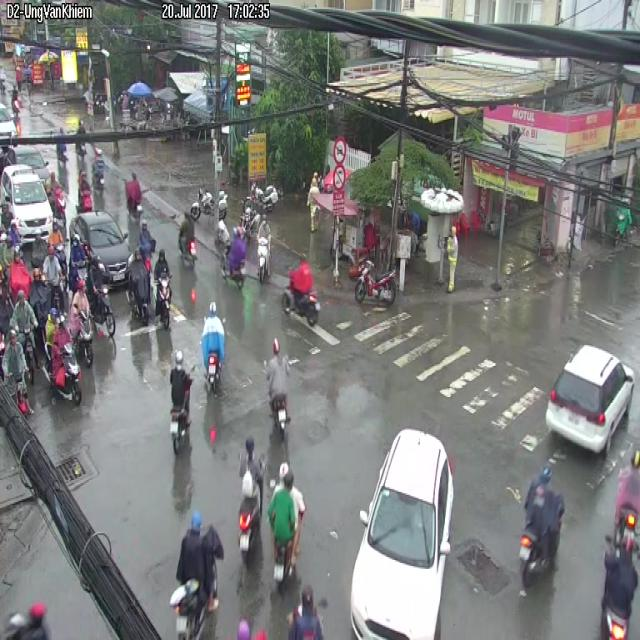car: (170, 511, 223, 639), (521, 467, 564, 585), (600, 520, 638, 639), (268, 462, 303, 585), (238, 439, 263, 560), (50, 313, 81, 403), (10, 290, 38, 378), (2, 330, 31, 412), (282, 261, 318, 324), (86, 258, 115, 336), (170, 350, 192, 452), (613, 450, 639, 536), (202, 302, 224, 391), (267, 338, 288, 431), (354, 259, 397, 304), (70, 280, 92, 364), (153, 250, 171, 327), (43, 246, 62, 308), (227, 225, 246, 284), (69, 234, 86, 290), (48, 221, 66, 273), (178, 212, 196, 262), (46, 172, 64, 219), (258, 219, 271, 281), (126, 172, 142, 215), (78, 170, 92, 210), (93, 151, 104, 190)
traffic-light: (350, 428, 453, 639), (545, 345, 634, 453), (70, 212, 131, 287), (0, 164, 52, 241)
